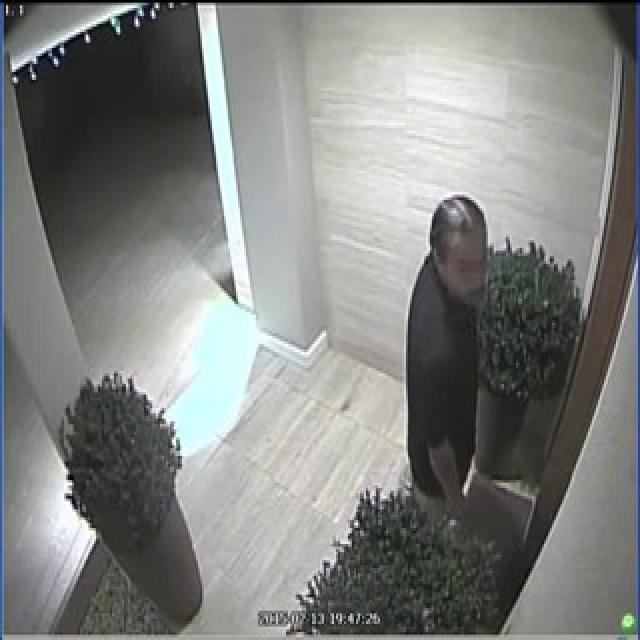thief: (396, 184, 501, 497)
